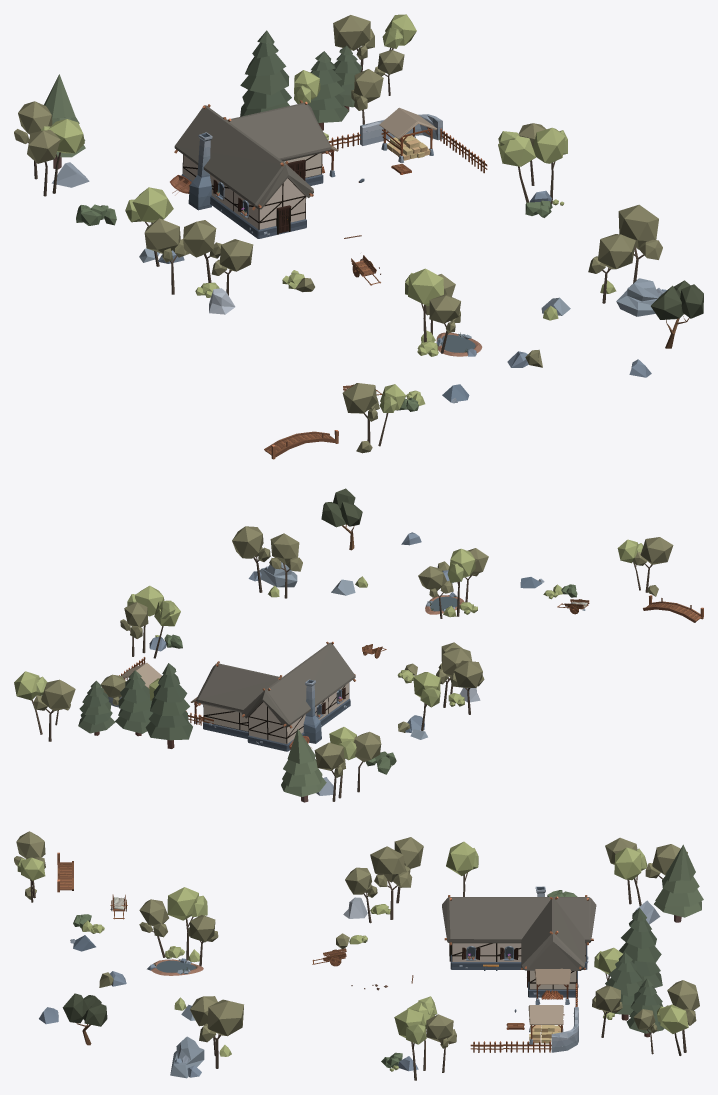
The model's file is elementosTerreno1.obj.
3 renders of one model, top to bottom at view 1: azimuth 30°, elevation 25°; view 2: azimuth 150°, elevation 25°; view 3: azimuth 270°, elevation 25°, orthographic. The views are drawn at different scales.
Parts seen in each view (by area): view 1: Scene001; view 2: Scene001; view 3: Scene001.
Part boxes in pixels (left/top/right/bottom): Scene001: left=14, top=14, right=703, bottom=459; Scene001: left=14, top=488, right=703, bottom=802; Scene001: left=14, top=831, right=703, bottom=1080.
Size of the model in its own units: 1909 by 441 by 2591.
1 material, 1 textured.
